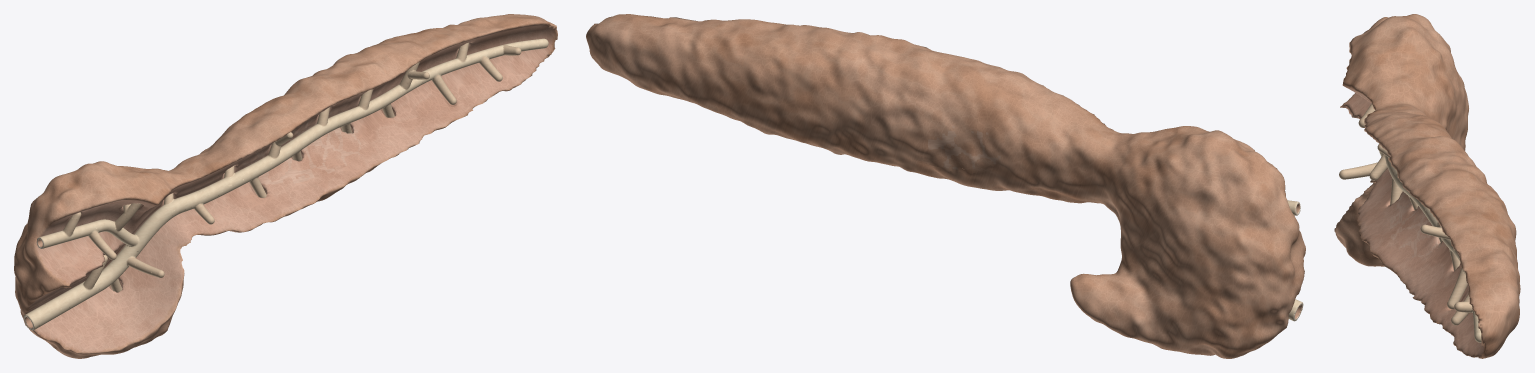
Rendered from section.glb.
3 views of the same model, side by side, from view 1: azimuth 30°, elevation 25°; view 2: azimuth 150°, elevation 25°; view 3: azimuth 270°, elevation 25° (orthographic). The views are drawn at different scales.
Parts seen in each view (by area): view 1: PA_Section, PA_DuctNetwork, PA_Lobules, PA_Septa; view 2: PA_Section, PA_Lobules, PA_Septa; view 3: PA_Section, PA_DuctNetwork, PA_Lobules, PA_Septa.
Boxes of the visible parts, x1=… form: PA_Section: x1=14, y1=14, x2=557, y2=358; PA_DuctNetwork: x1=23, y1=38, x2=548, y2=330; PA_Lobules: x1=237, y1=108, x2=361, y2=184; PA_Septa: x1=242, y1=108, x2=361, y2=184; PA_Section: x1=586, y1=14, x2=1305, y2=358; PA_Lobules: x1=922, y1=127, x2=1000, y2=171; PA_Septa: x1=928, y1=125, x2=1000, y2=169; PA_Section: x1=1334, y1=14, x2=1520, y2=358; PA_DuctNetwork: x1=1339, y1=103, x2=1481, y2=342; PA_Lobules: x1=1390, y1=194, x2=1438, y2=256; PA_Septa: x1=1390, y1=191, x2=1442, y2=257.
Size of the model in its own units: 0.1528 by 0.0541 by 0.0347.
7 materials, 7 textured.
